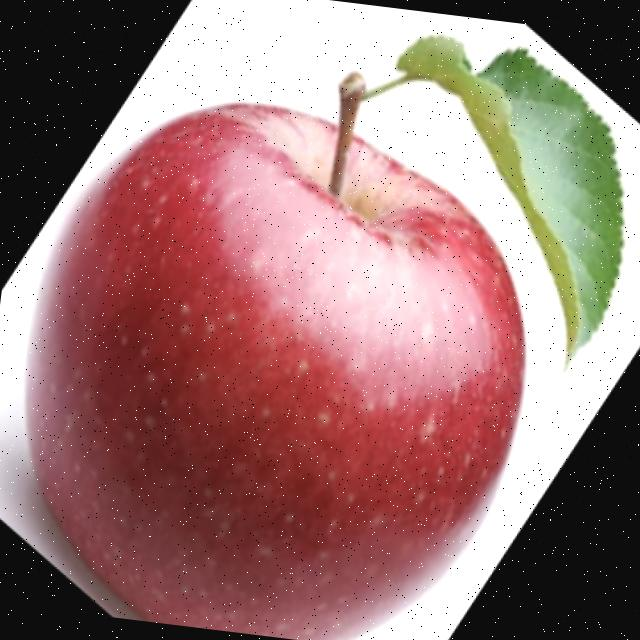Ripe: (0, 67, 561, 640)
